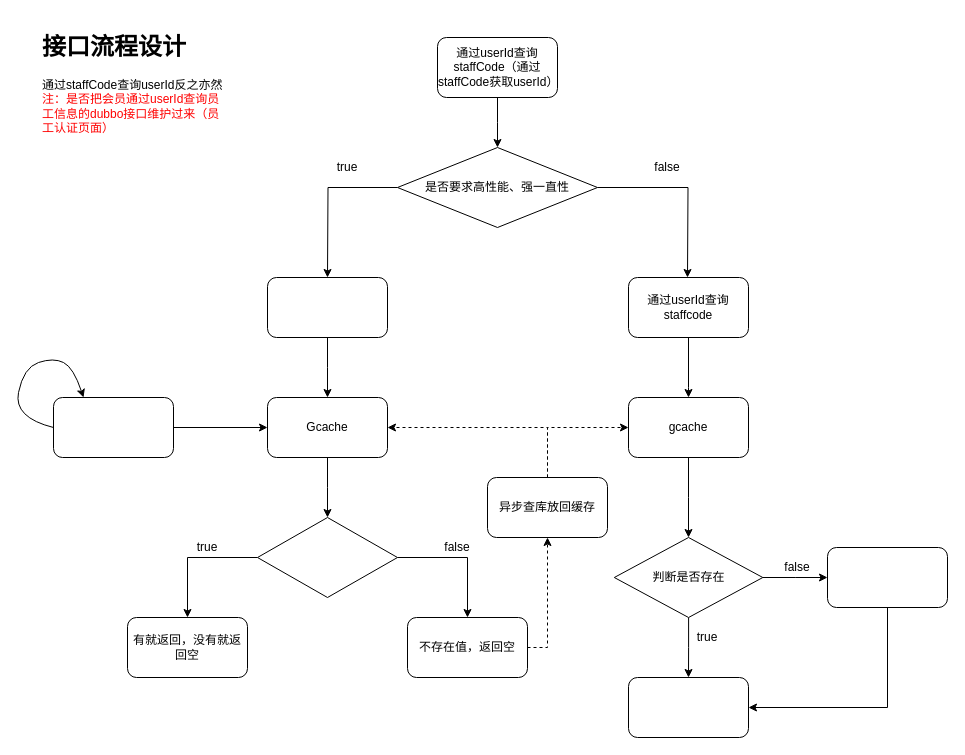
The diagram is 965 pixels wide and 755 high, and some of its shapes have lost their labels. Here are the shapes that lost their labels. From the top down, the centre of each, then its label:
point 327,307: dubbo接口通过userId查询对应的staffCode
point 113,427: job查询库
point 327,557: 判断是否存在值
point 887,577: 查询数据库
point 688,707: 返回值
